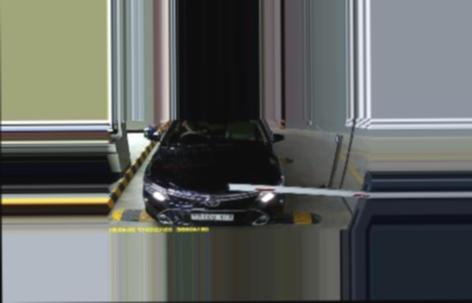License_Plate: (190, 208, 235, 224)
